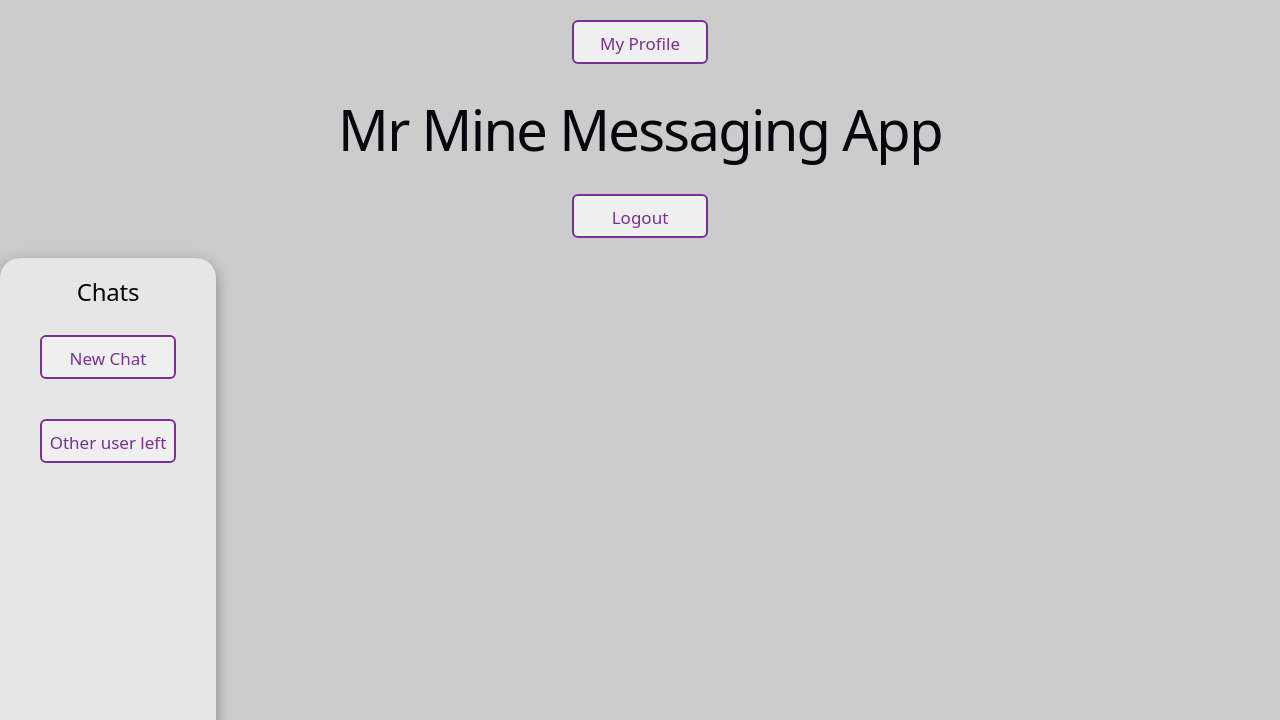
Scenario: Home component › gets user profile from chats
Click the button "My Profile".
click(640, 42)  # box [572,20,708,64]
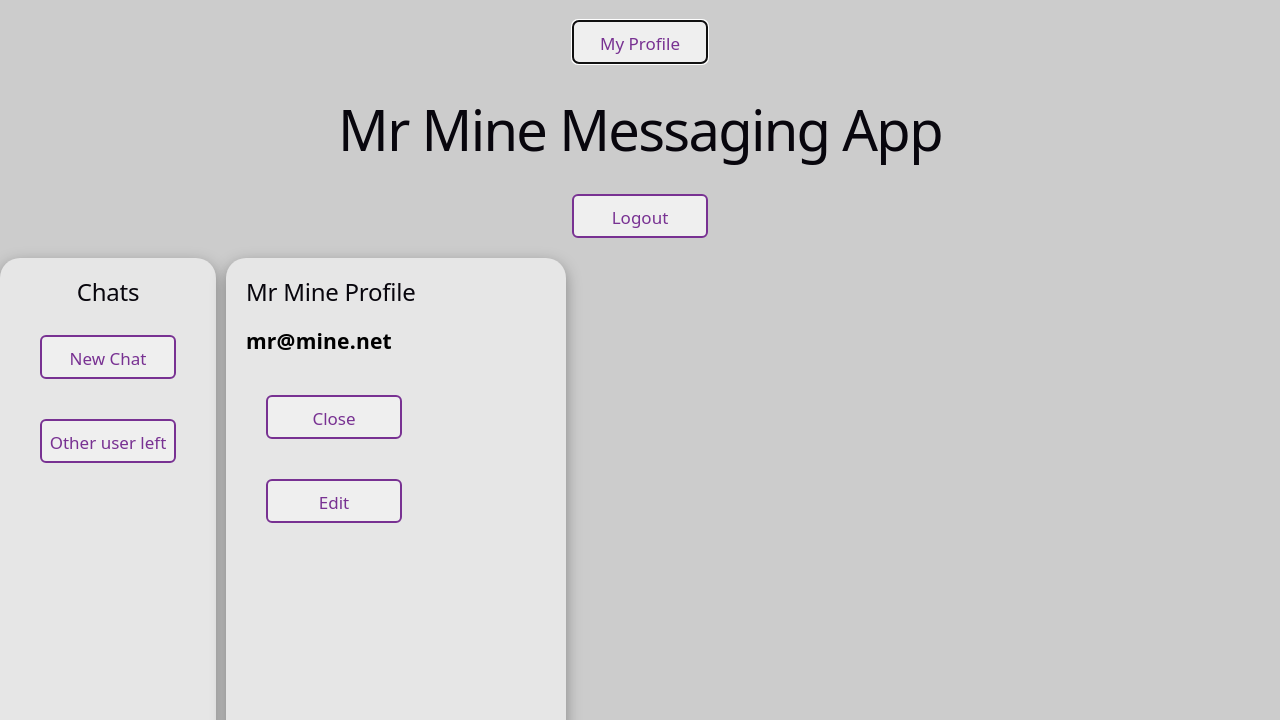
Result: the heading "Mr Mine Profile" is shown at [246,276,416,308]
